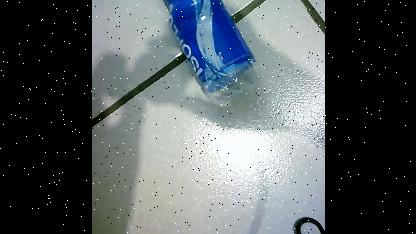Plastic Bottle: (137, 0, 262, 107)
